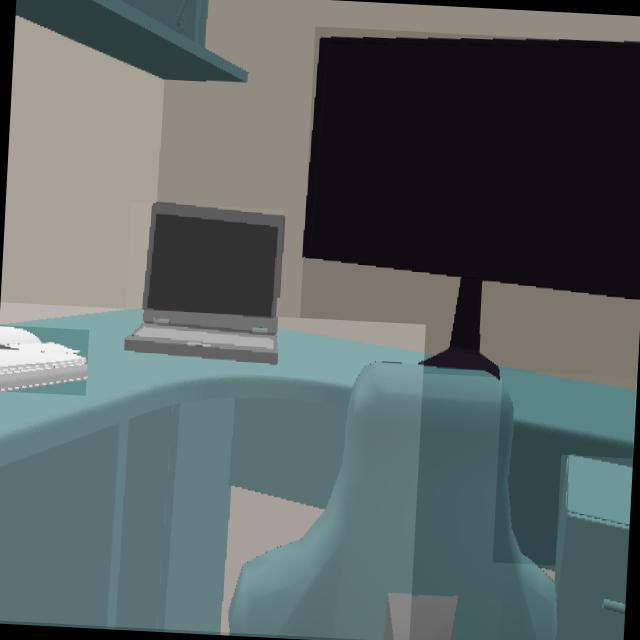book: (0, 327, 87, 392)
cabinet: (556, 455, 631, 640)
laptop: (125, 204, 282, 365)
monitor: (303, 40, 640, 377)
table: (0, 310, 424, 631), (502, 371, 636, 565)
